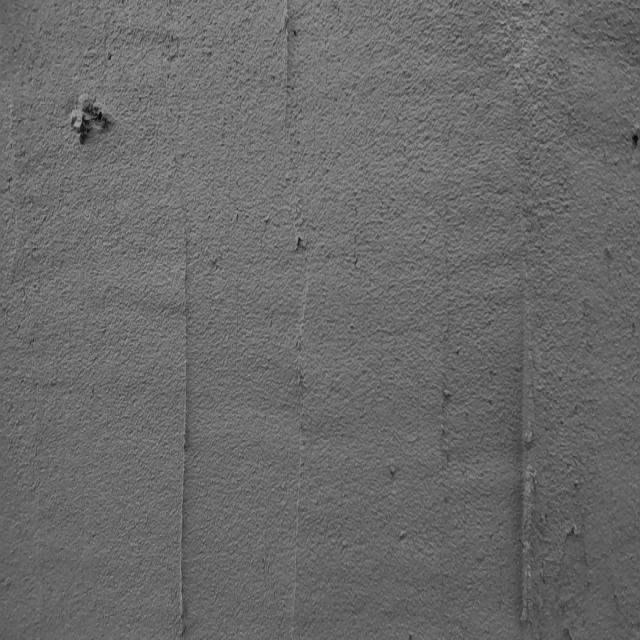trowels marks: (508, 254, 550, 640), (176, 223, 194, 640), (280, 0, 297, 126)
